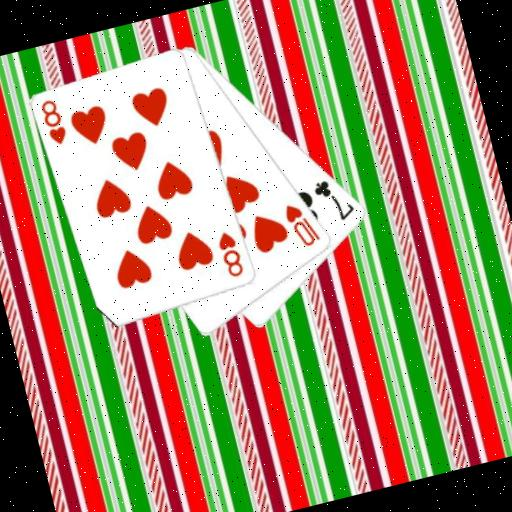10H: (280, 196, 325, 253)
7C: (308, 171, 359, 228)
8H: (213, 226, 248, 281), (37, 95, 71, 149)
